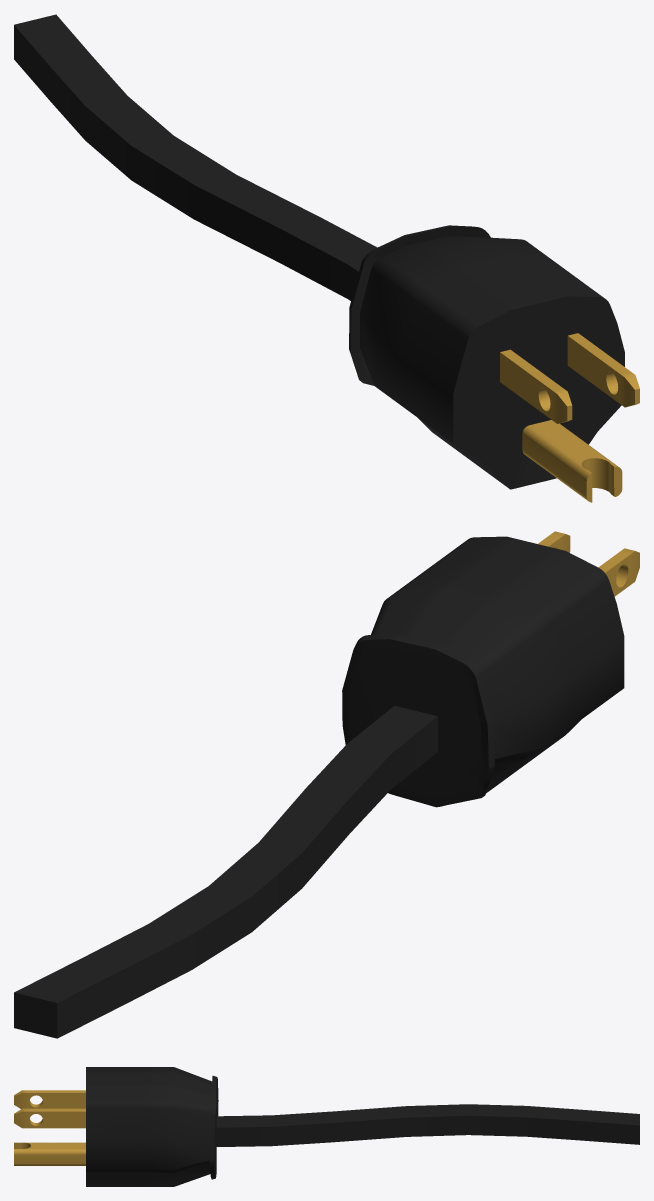
The model's file is 3 Prong Plug for Unity.fbx.
3 renders of one model, top to bottom at view 1: azimuth 30°, elevation 25°; view 2: azimuth 150°, elevation 25°; view 3: azimuth 270°, elevation 25°, orthographic. The views are drawn at different scales.
Visible parts, largest first — view 1: pCube6; view 2: pCube6; view 3: pCube6.
Part boxes in pixels (box(x1,y1,x2,y2)): pCube6: box(14, 14, 639, 502); pCube6: box(14, 531, 639, 1038); pCube6: box(14, 1067, 639, 1186).
Bounding box in the file's own units: 1.25 × 1.25 × 7.07.
